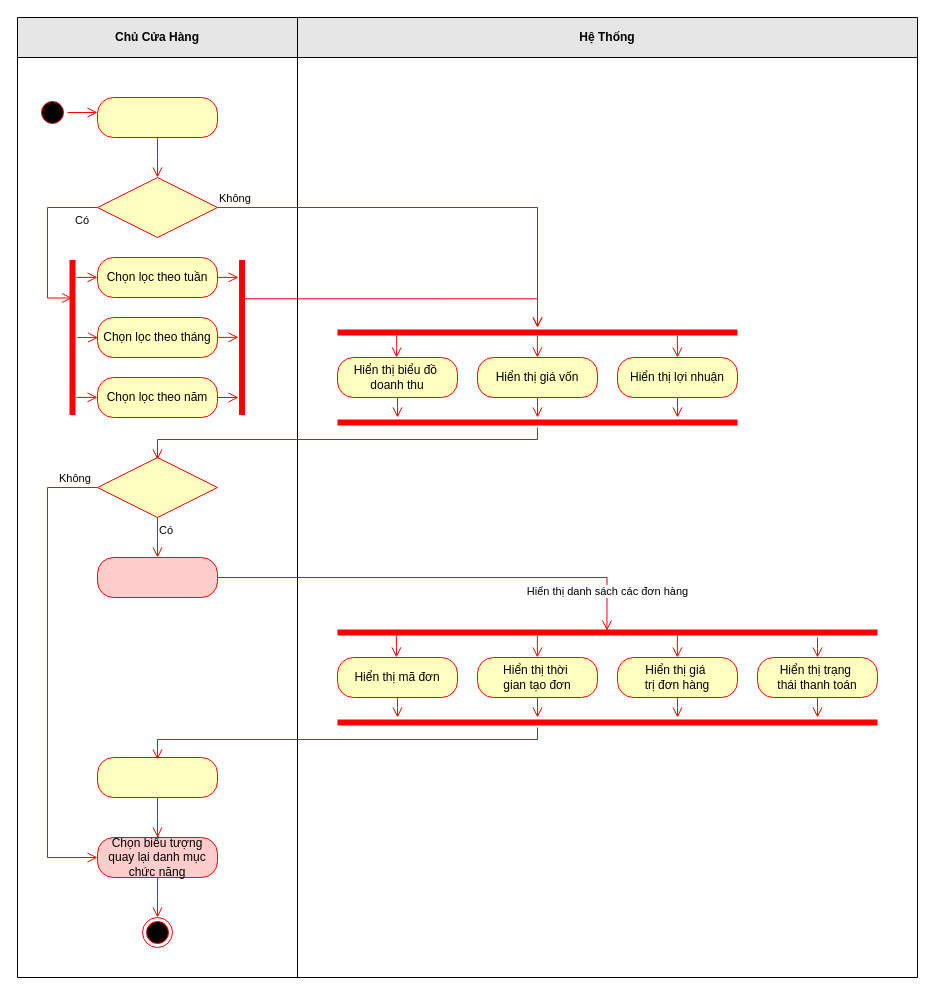
This 935x995 diagram has some shape labels left out. Each missing label, with the centre of its shape:
Chọn "Quay lại": (x=157, y=777)
Chọn "Thống kê": (x=157, y=117)
Chọn biểu tượng chi tiết các đơn: (x=157, y=577)
Lọc thời gian?: (x=157, y=207)
Xem chi tiết các đơn hàng?: (x=157, y=487)
